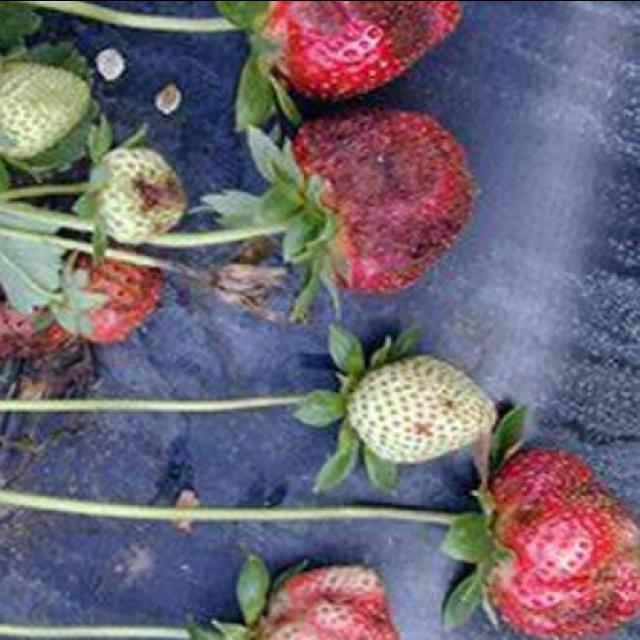Anthracnose Fruit Rot: (293, 108, 476, 293), (288, 0, 444, 72), (73, 250, 161, 347), (127, 161, 188, 237), (400, 413, 441, 448)
